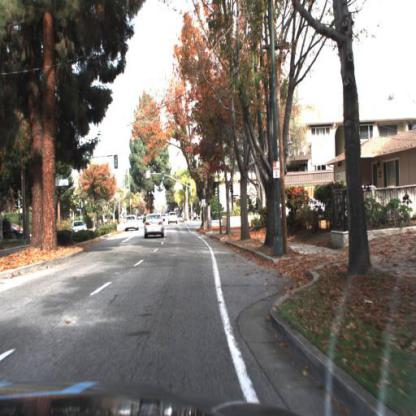car: (140, 206, 168, 246), (66, 209, 91, 240), (122, 209, 144, 238), (168, 208, 182, 229)
trafficLight-Green: (160, 169, 168, 187), (189, 193, 196, 208)
